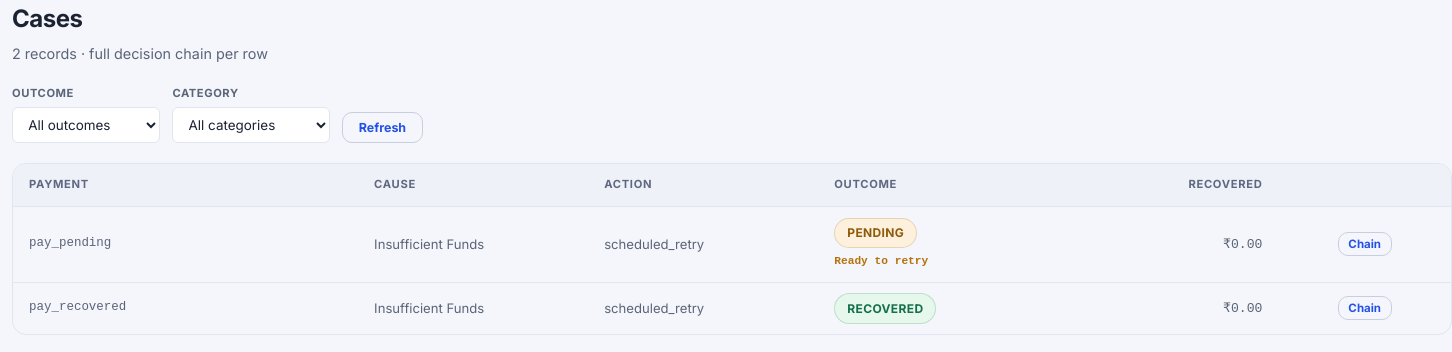
Cases › filters by outcome
Select "Recovered" in the dropdown with test id "filter-outcome": (86, 125) [12,107,160,143]
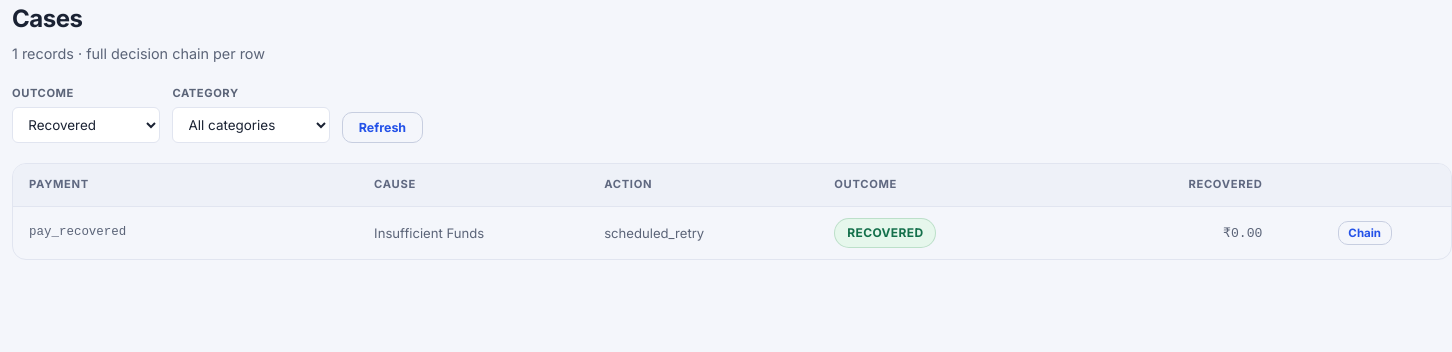
Check: the text "pay_recovered" is shown, box [13,207,358,259]
Check: the text "pay_pending" is gone
